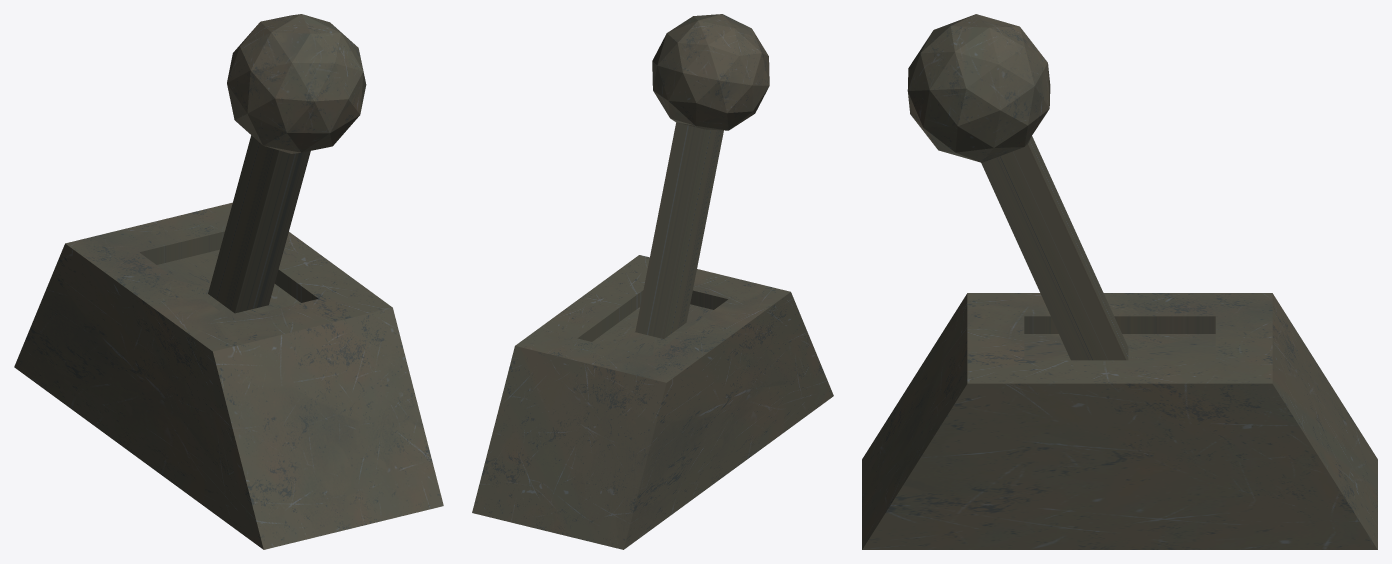
Rendered from lever.glb.
3 renders of one model, left to right at view 1: azimuth 30°, elevation 25°; view 2: azimuth 150°, elevation 25°; view 3: azimuth 270°, elevation 25°, orthographic. The views are drawn at different scales.
Visible parts, largest first — view 1: Cube, Cube.001; view 2: Cube, Cube.001; view 3: Cube, Cube.001.
Part boxes in pixels (bbox=[...]): Cube: bbox=[14, 202, 443, 549]; Cube.001: bbox=[208, 14, 366, 313]; Cube: bbox=[472, 255, 833, 549]; Cube.001: bbox=[635, 14, 769, 338]; Cube: bbox=[862, 293, 1377, 549]; Cube.001: bbox=[907, 14, 1128, 360].
Bounding box in the file's own units: 8.01 × 19.82 × 19.23.
1 material, 1 textured.
